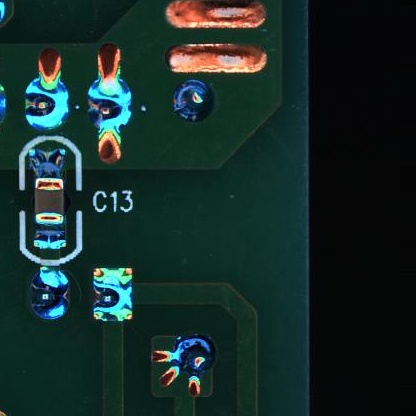spot: (154, 335, 217, 392), (21, 75, 70, 132), (86, 77, 133, 132), (90, 264, 131, 325), (27, 268, 73, 322), (171, 76, 215, 123)
